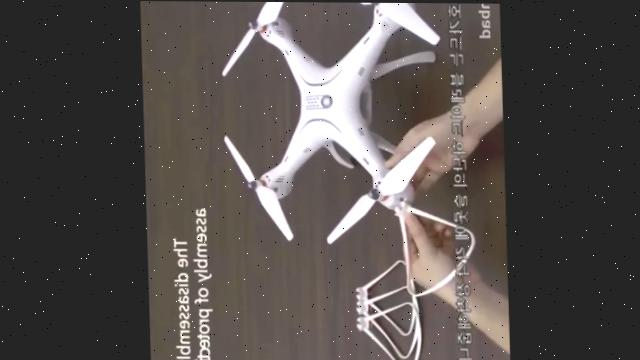drone: (217, 1, 447, 245)
